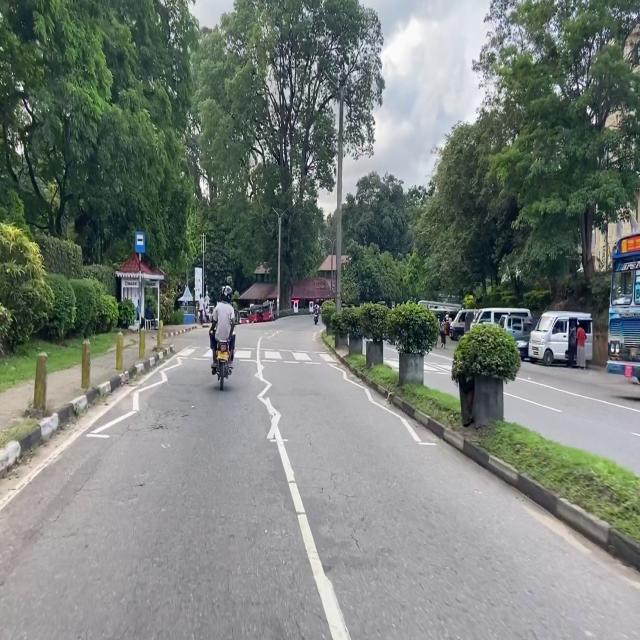bus: (607, 232, 640, 380)
car: (516, 331, 530, 360)
motorcycle: (216, 341, 231, 390), (314, 311, 318, 325)
person: (210, 286, 235, 375), (577, 321, 586, 369), (568, 320, 577, 366), (145, 302, 155, 324), (440, 319, 446, 348), (199, 294, 203, 325), (314, 303, 320, 315)
three wheeler: (446, 309, 457, 335), (261, 301, 274, 321), (523, 318, 537, 334), (249, 305, 262, 322)
van: (528, 311, 592, 366), (471, 309, 529, 327), (499, 314, 531, 340), (450, 309, 474, 340)
